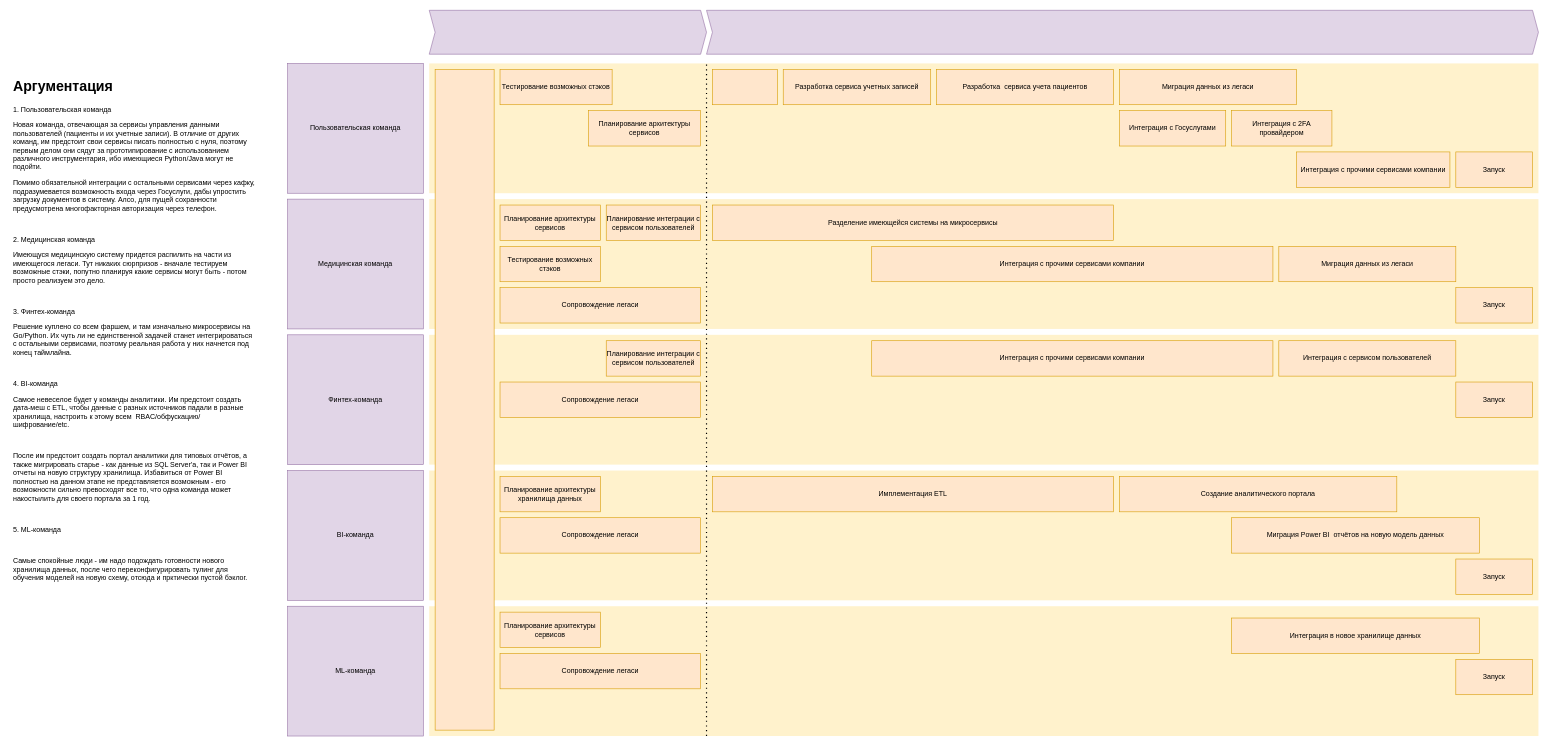
The diagram is 1549 pixels wide and 748 high, and some of its shapes have lost their labels. Each missing label, with the centre of its shape:
"Q1" goes at (568,32).
"Q2-4" goes at (1122,32).
"Деплой брокера аутентификации" goes at (744,87).
"Разделение команд согласно бизнес-доменам и онбординг" goes at (464,399).
